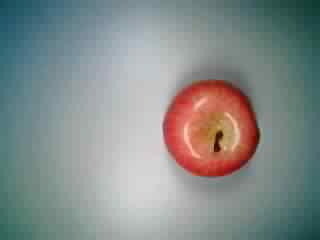apple: (161, 76, 265, 177)
